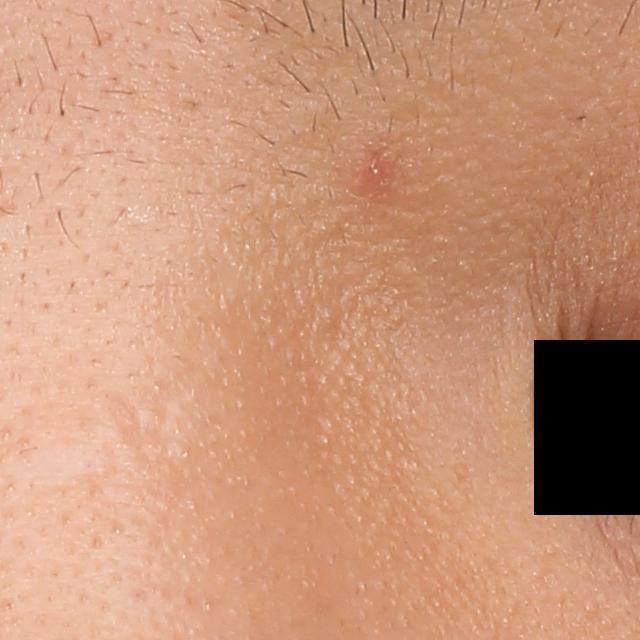atrophic_scar: (104, 393, 189, 460)
